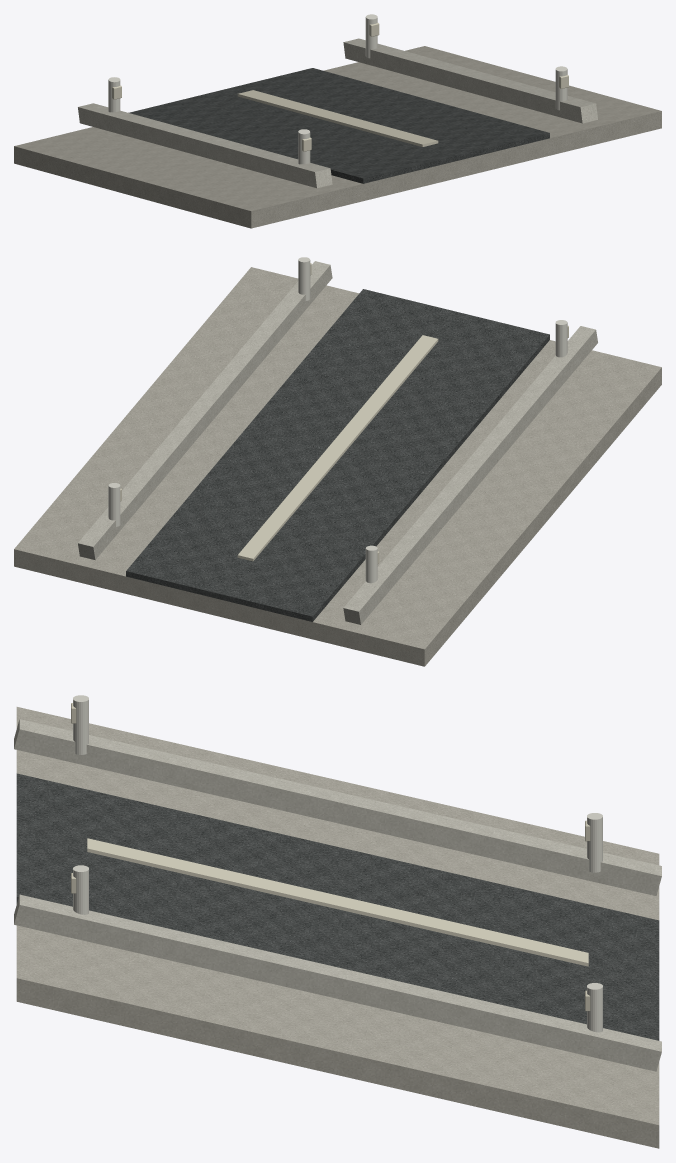
The model's file is ROAD_LOCAL_SLOPE_1x1_DOWN_050.glb.
The picture shows the model from 3 angles, top to bottom: view 1: azimuth 30°, elevation 25°; view 2: azimuth 150°, elevation 25°; view 3: azimuth 270°, elevation 25°; orthographic projection. The views are drawn at different scales.
Visible parts, largest first — view 1: ROAD_LOCAL_SLOPE_1x1_DOWN_050_Visual; view 2: ROAD_LOCAL_SLOPE_1x1_DOWN_050_Visual; view 3: ROAD_LOCAL_SLOPE_1x1_DOWN_050_Visual.
Boxes of the visible parts, bbox=[...] form: ROAD_LOCAL_SLOPE_1x1_DOWN_050_Visual: bbox=[14, 14, 661, 228]; ROAD_LOCAL_SLOPE_1x1_DOWN_050_Visual: bbox=[14, 257, 661, 666]; ROAD_LOCAL_SLOPE_1x1_DOWN_050_Visual: bbox=[14, 695, 661, 1148].
Size of what is drawn, in the model's own units: 1.98 by 0.78 by 2.
Materials: 5 (3 with a texture image).
